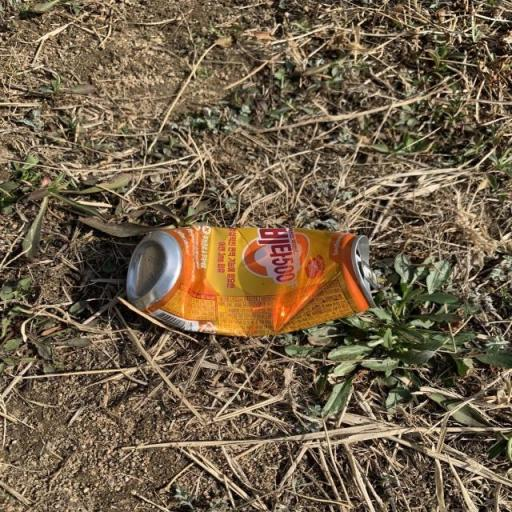metal: (96, 198, 392, 343)
